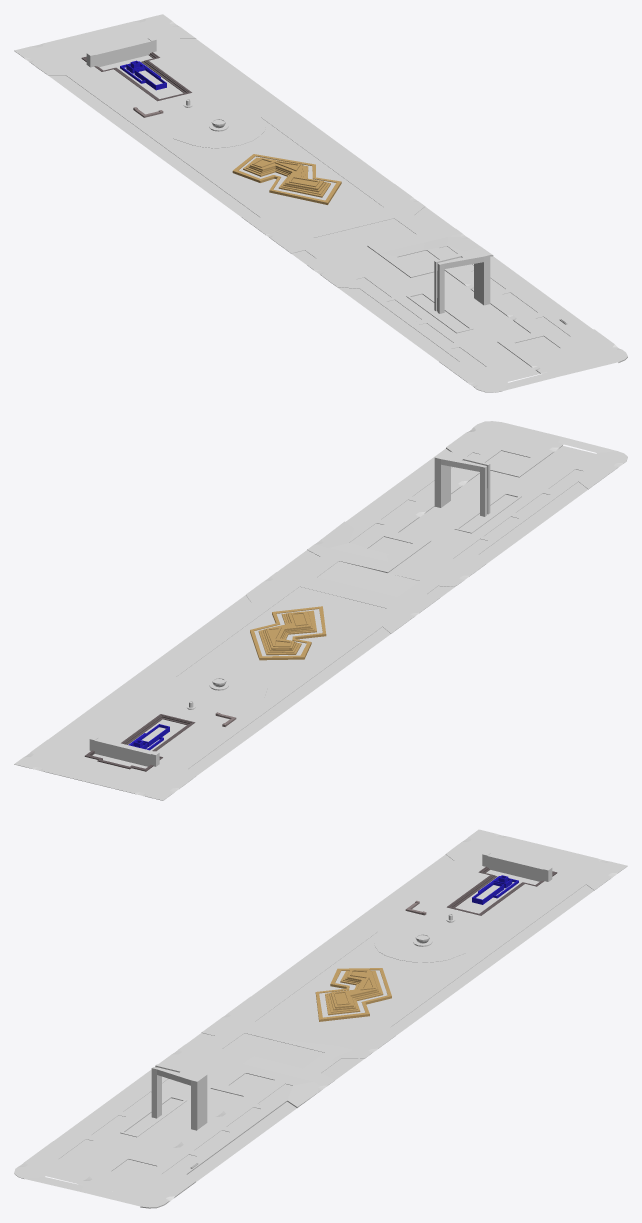
The model's file is praca.fbx.
The picture shows the model from 3 angles, top to bottom: view 1: azimuth 30°, elevation 25°; view 2: azimuth 150°, elevation 25°; view 3: azimuth 330°, elevation 25°; orthographic projection.
Parts seen in each view (by area): view 1: chaoFinal, Plane.006, asfalto, monumentochafaris, agua, portal do milenium.001, monumento; view 2: chaoFinal, Plane.006, asfalto, monumentochafaris, agua, portal do milenium.001, monumento; view 3: chaoFinal, Plane.006, asfalto, monumentochafaris, agua, portal do milenium.001, monumento.
Boxes of the visible parts, x1=… form: chaoFinal: x1=14, y1=14, x2=627, y2=392; Plane.006: x1=174, y1=118, x2=570, y2=368; asfalto: x1=48, y1=39, x2=592, y2=361; monumentochafaris: x1=81, y1=52, x2=341, y2=204; agua: x1=99, y1=55, x2=468, y2=330; portal do milenium.001: x1=434, y1=247, x2=490, y2=313; monumento: x1=86, y1=37, x2=156, y2=67; chaoFinal: x1=14, y1=421, x2=627, y2=800; Plane.006: x1=177, y1=451, x2=582, y2=697; asfalto: x1=48, y1=448, x2=587, y2=775; monumentochafaris: x1=84, y1=606, x2=326, y2=771; agua: x1=92, y1=494, x2=516, y2=768; portal do milenium.001: x1=434, y1=450, x2=490, y2=516; monumento: x1=89, y1=736, x2=159, y2=766; chaoFinal: x1=14, y1=829, x2=627, y2=1208; Plane.006: x1=59, y1=932, x2=463, y2=1178; asfalto: x1=54, y1=854, x2=594, y2=1181; monumentochafaris: x1=315, y1=866, x2=557, y2=1021; agua: x1=125, y1=870, x2=539, y2=1134; portal do milenium.001: x1=151, y1=1064, x2=207, y2=1130; monumento: x1=482, y1=851, x2=552, y2=881.
Bounding box in the file's own units: 5103 × 1673 × 27959.
